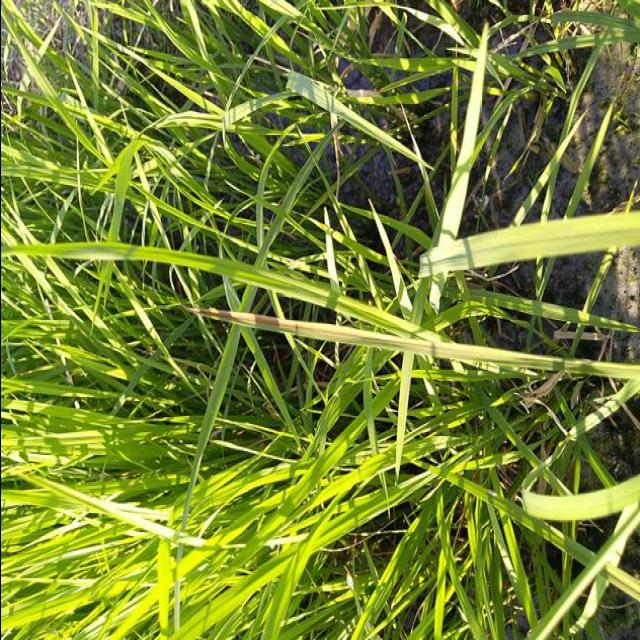Leaf Streak: (191, 311, 433, 354)
